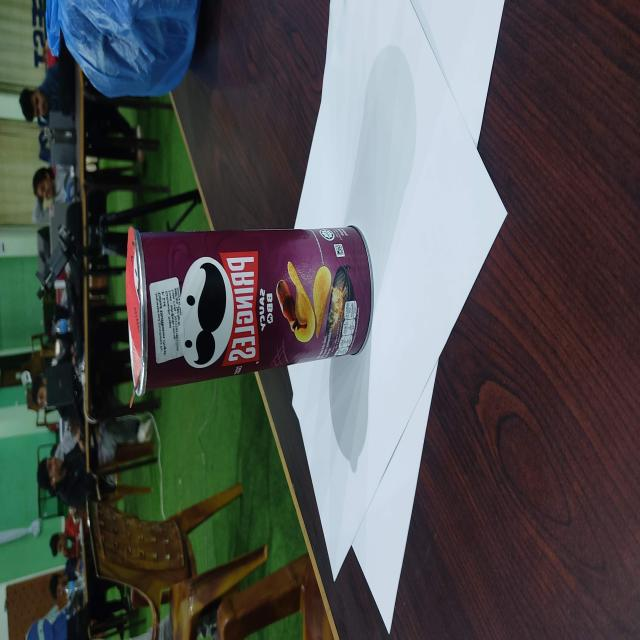Chair: (85, 482, 268, 639)
Pringles: (125, 224, 374, 402)
